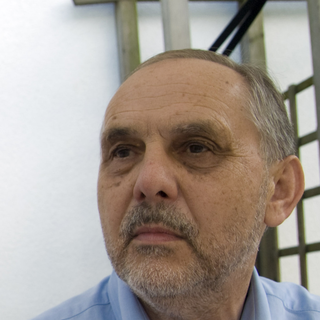eye: (171, 135, 220, 159), (107, 143, 143, 164)
